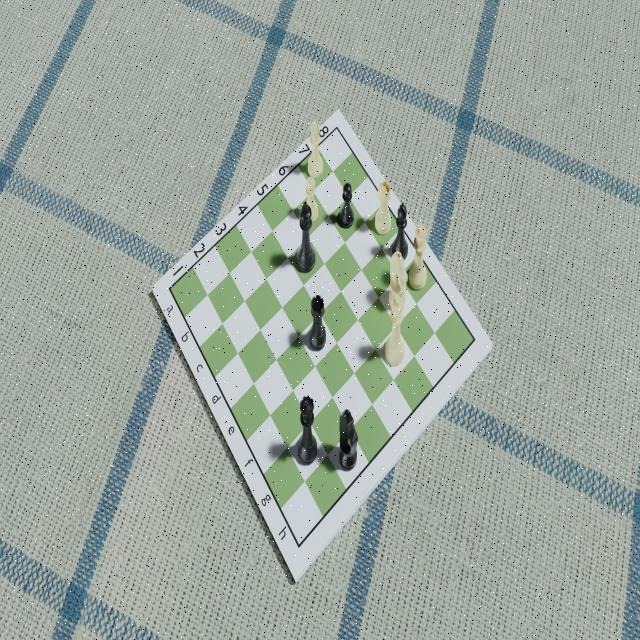black-bishop: (390, 201, 410, 261), (393, 199, 411, 260)
black-king: (295, 202, 316, 272)
black-knight: (336, 405, 360, 475)
black-pawn: (338, 182, 356, 230)
black-queen: (296, 391, 319, 469)
black-rook: (308, 290, 328, 355)
white-bishop: (307, 117, 325, 179)
white-king: (382, 293, 405, 369)
white-knight: (386, 251, 405, 315)
white-pawn: (302, 174, 320, 225)
white-queen: (407, 219, 428, 293)
white-rook: (373, 175, 393, 239)
